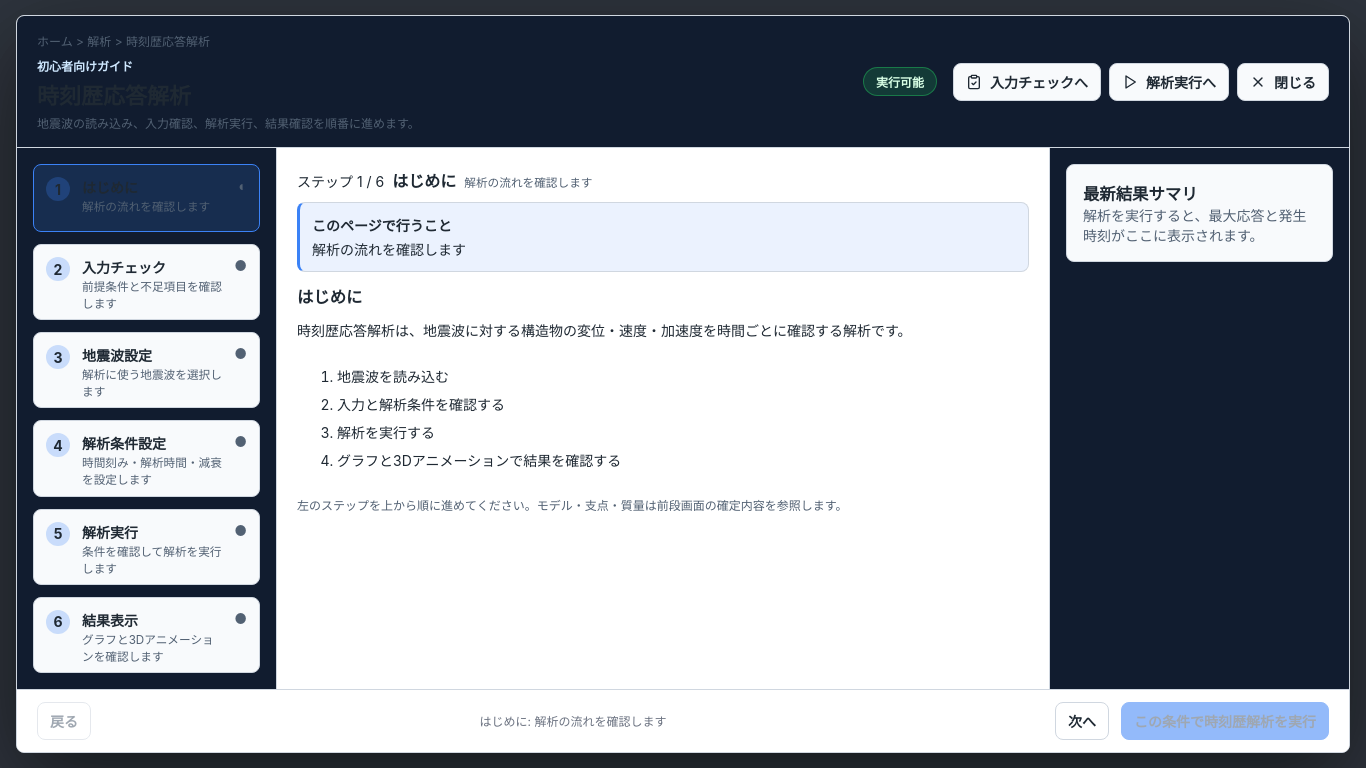
Test case: TimeHistoryWizardModal › renders the ground motion section when navigated
Click the button "3 地震波設定 解析に使う地震波を選択します ●": (146, 370) top-left (33, 332), bottom-right (260, 408)
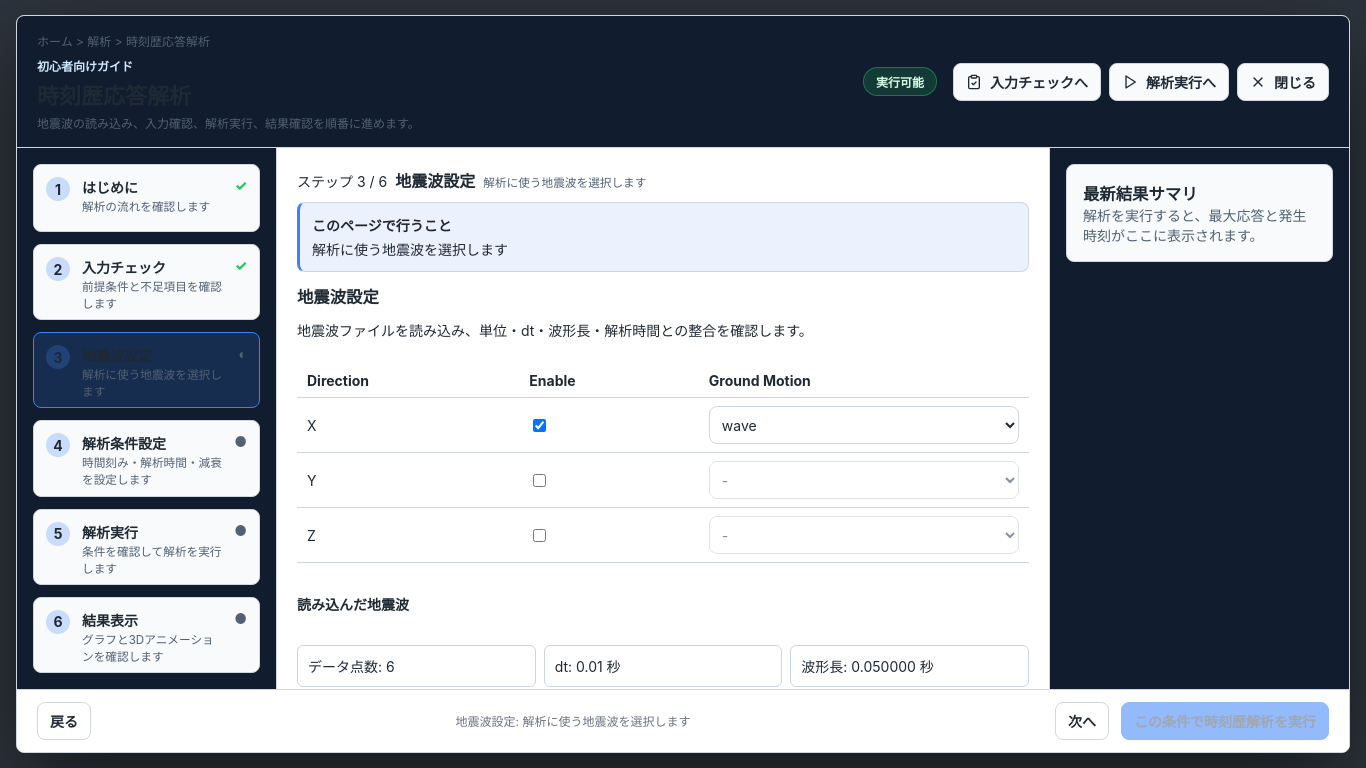
Check: the text "読み込んだ地震波" is shown, box top-left (297, 596), bottom-right (409, 613)
